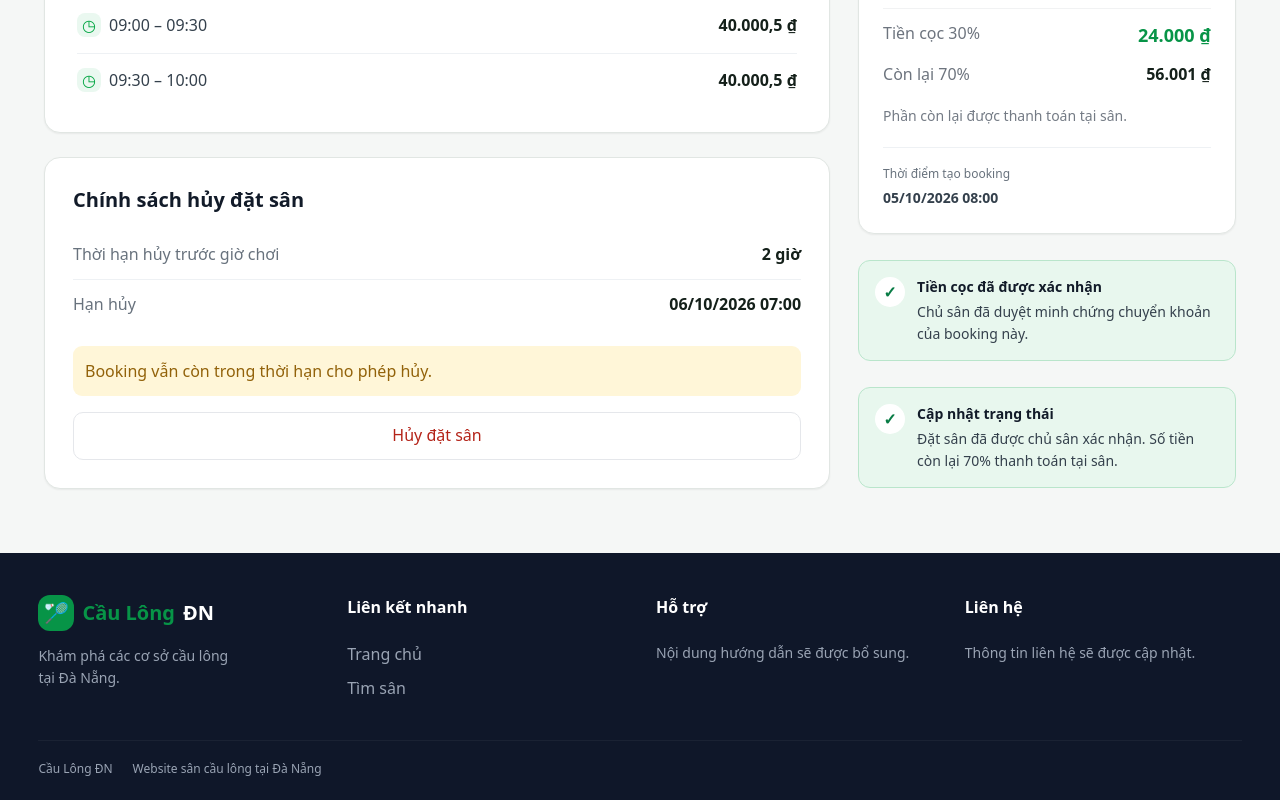
confirmed booking renders cutoff deadline and cancels through accessible modal
(page scrolled)
Expected: the heading "Tiền cọc đã được xác nhận" is shown, [917,278,1102,297]
Expected: the text "2 giờ" is shown, [762,242,801,267]
Click the button "Hủy đặt sân": (437, 436) [73,412,801,460]
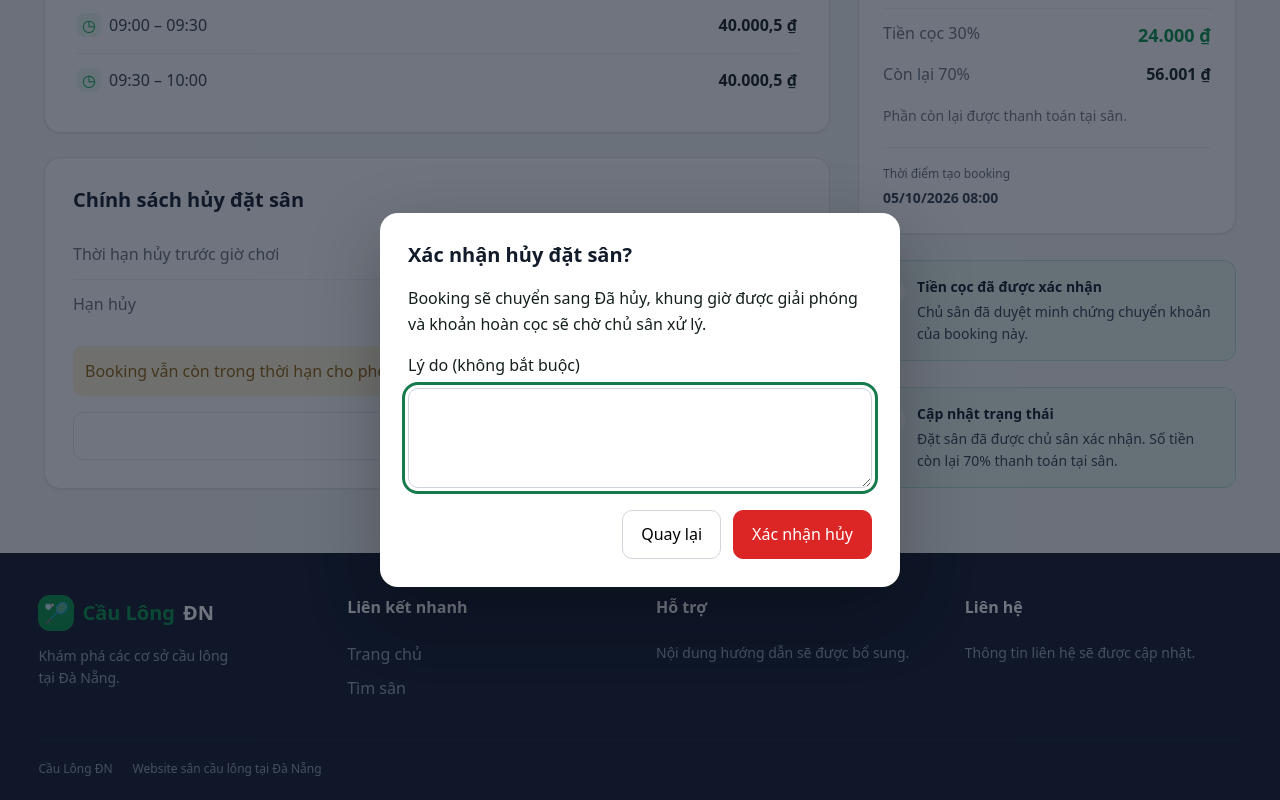
Expected: the dialog "Xác nhận hủy đặt sân?" is shown, [380,212,900,588]
Click the button "Xác nhận hủy": (803, 535) [733,510,872,560]
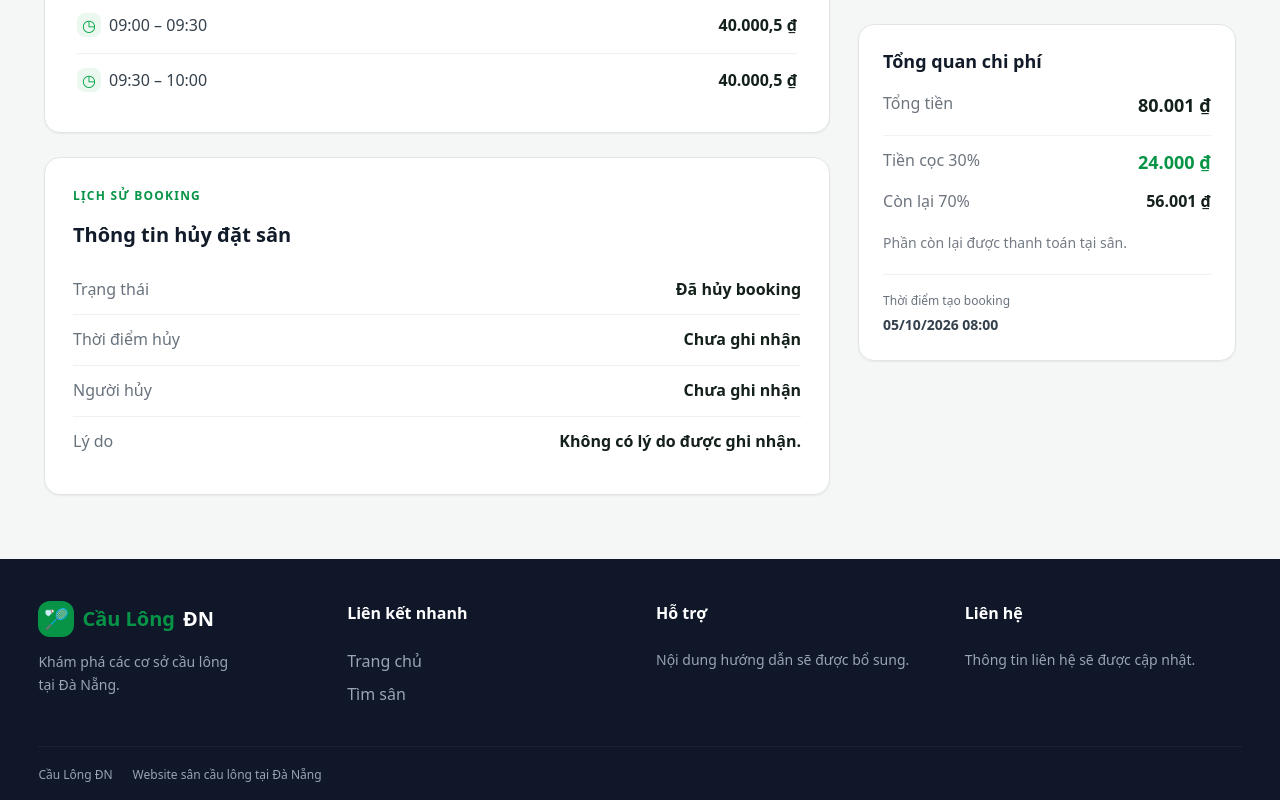
Expected: the heading "Thông tin hủy đặt sân" is shown, [73,221,291,248]
Expected: the heading "Cập nhật trạng thái" is gone
